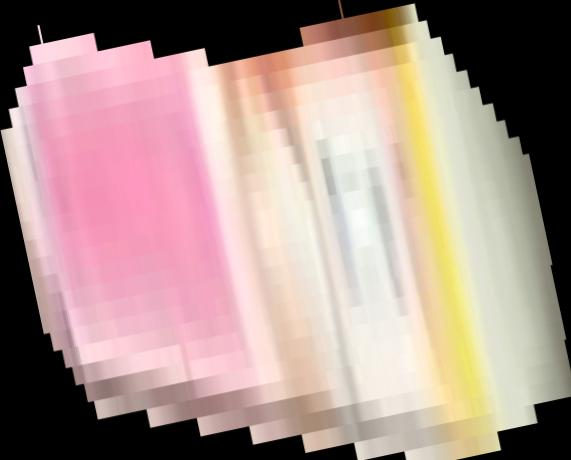flat: (1, 1, 571, 460)
